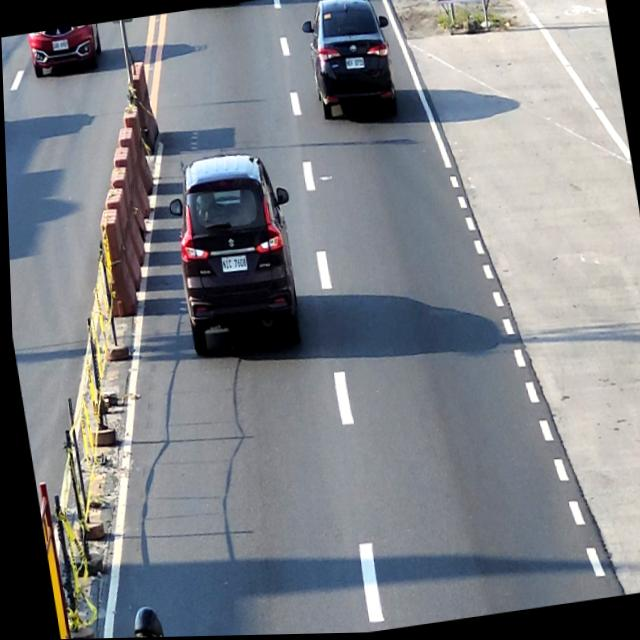Car: (160, 148, 310, 363), (297, 0, 402, 127), (26, 24, 104, 79)
License-Plate: (218, 255, 246, 275), (344, 57, 365, 72), (51, 40, 68, 51)
